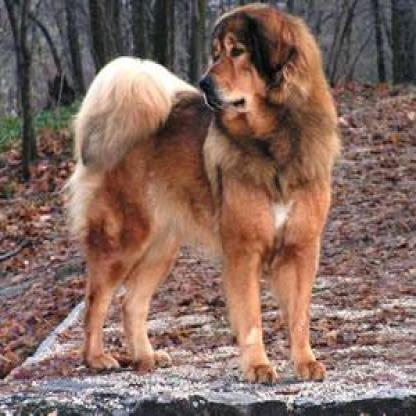Tibetan_mastiff: (58, 1, 338, 388)
